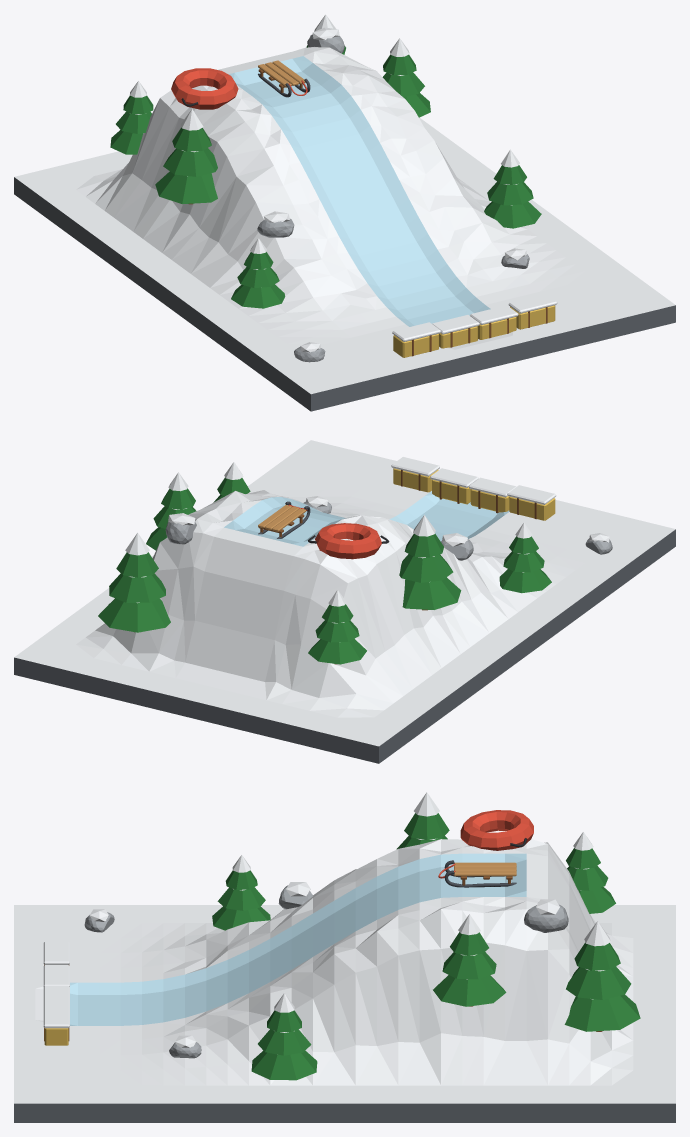
File: snowy-sledding-hill.glb
3 renders of one model, top to bottom at view 1: azimuth 30°, elevation 25°; view 2: azimuth 150°, elevation 25°; view 3: azimuth 270°, elevation 25°, orthographic. The views are drawn at different scales.
Visible parts, largest first — view 1: Hill, SnowTube, Pine0_Tier0, Pine0_Tier1, Pine5_Tier0, Pine4_Tier0, Pine5_Tier1, Pine0_Tier2, HayBale0, Pine4_Tier1, Pine1_Tier1, HayBale3 (+2 smaller); view 2: Hill, SnowTube, Pine3_Tier0, Pine0_Tier0, Pine3_Tier1, Pine0_Tier1, Pine2_Tier0, Pine4_Tier0, Pine3_Tier2, Pine2_Tier1, Pine0_Tier2, HayBale0 (+10 smaller); view 3: Hill, SnowTube, Pine3_Tier0, Pine1_Tier0, Pine3_Tier1, Pine5_Tier0, Pine1_Tier1, Pine5_Tier1, Pine3_Tier2, Pine4_Tier0, Pine0_Tier2, Rock2 (+11 smaller).
Boxes of the visible parts, x1,y1,x2,y2 form: Hill: [14, 47, 675, 411]; SnowTube: [171, 68, 238, 109]; Pine0_Tier0: [155, 171, 217, 204]; Pine0_Tier1: [163, 148, 217, 176]; Pine5_Tier0: [484, 201, 541, 228]; Pine4_Tier0: [231, 284, 285, 308]; Pine5_Tier1: [487, 182, 533, 205]; Pine0_Tier2: [172, 127, 211, 151]; HayBale0: [393, 333, 438, 357]; Pine4_Tier1: [237, 267, 279, 288]; Pine1_Tier1: [382, 72, 424, 96]; HayBale3: [510, 305, 555, 329]; Hill: [14, 440, 675, 763]; SnowTube: [315, 523, 381, 559]; Pine3_Tier0: [98, 598, 170, 632]; Pine0_Tier0: [402, 577, 461, 609]; Pine3_Tier1: [109, 573, 165, 602]; Pine0_Tier1: [399, 554, 453, 582]; Pine2_Tier0: [308, 639, 366, 664]; Pine4_Tier0: [499, 569, 551, 593]; Pine3_Tier2: [116, 552, 158, 577]; Pine2_Tier1: [315, 620, 359, 642]; Pine0_Tier2: [404, 533, 443, 557]; HayBale0: [509, 496, 555, 520]; Hill: [14, 839, 675, 1122]; SnowTube: [460, 810, 533, 850]; Pine3_Tier0: [564, 994, 640, 1031]; Pine1_Tier0: [433, 975, 506, 1006]; Pine3_Tier1: [566, 966, 631, 999]; Pine5_Tier0: [251, 1050, 317, 1080]; Pine1_Tier1: [442, 952, 496, 979]; Pine5_Tier1: [258, 1029, 311, 1055]; Pine3_Tier2: [574, 942, 620, 970]; Pine4_Tier0: [212, 906, 270, 930]; Pine0_Tier2: [404, 813, 449, 840]; Rock2: [524, 904, 568, 932].
Size of the model in its own units: 33 by 13.17 by 46.5.
